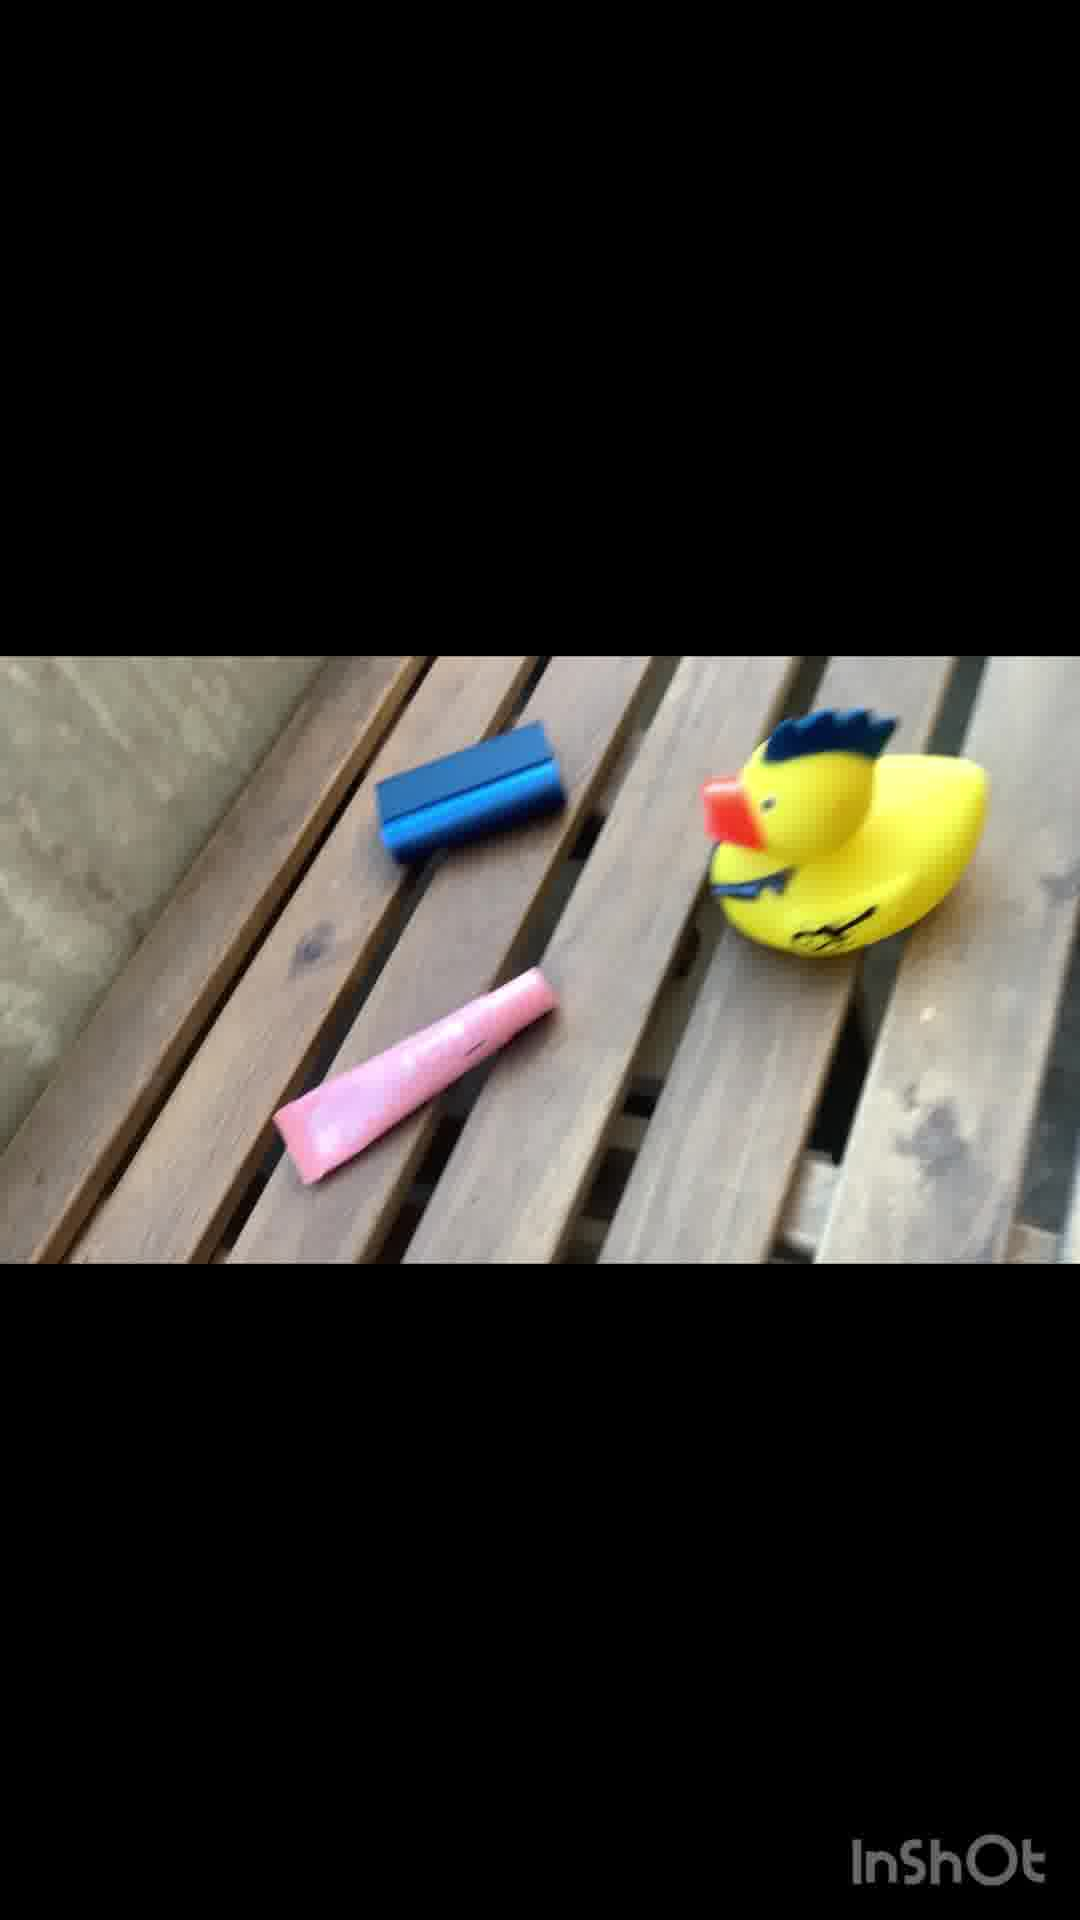duck: (695, 716, 990, 945)
glo: (369, 717, 587, 872)
lip balm: (255, 953, 568, 1185)
